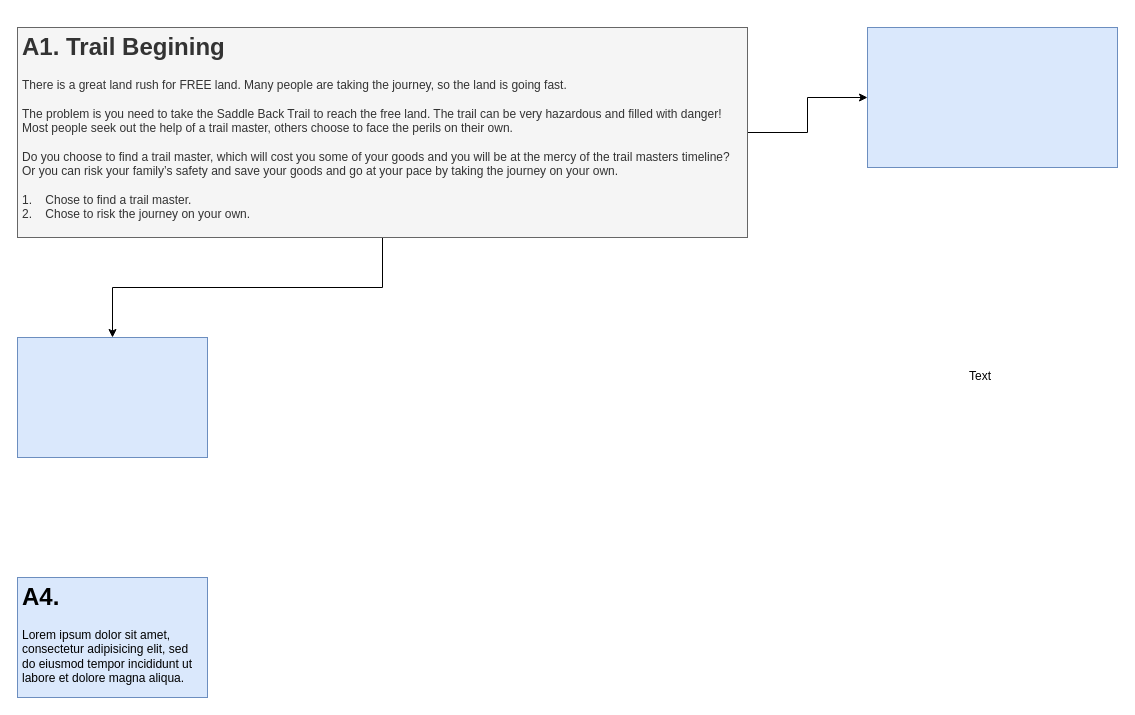
Some shapes in this 1135 by 715 pixel diagram are drawn without their labels. Each missing label, with the centre of its shape:
A2. Go Alone What 1. option 2. option: pixel 112 397
A3. Find Trail Master What 1. option 2. option: pixel 992 97
